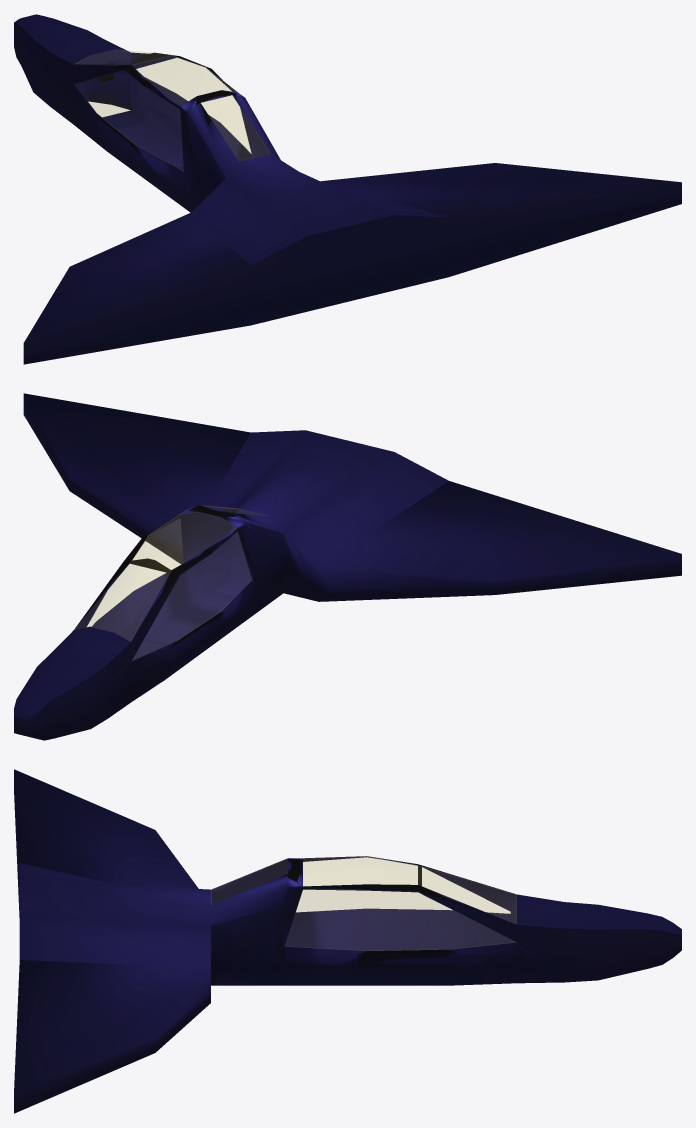
The model's file is ship.glb.
3 views of the same model, one above another, from view 1: azimuth 30°, elevation 25°; view 2: azimuth 150°, elevation 25°; view 3: azimuth 270°, elevation 25° (orthographic).
Visible parts, largest first — view 1: Ship; view 2: Ship; view 3: Ship.
Part boxes in pixels (left/top/right/bottom): Ship: left=14, top=14, right=681, bottom=364; Ship: left=14, top=393, right=681, bottom=740; Ship: left=14, top=769, right=681, bottom=1113.
Size of the model in its own units: 14.08 by 2.17 by 12.32.
Materials: 3 (1 with a texture image).
